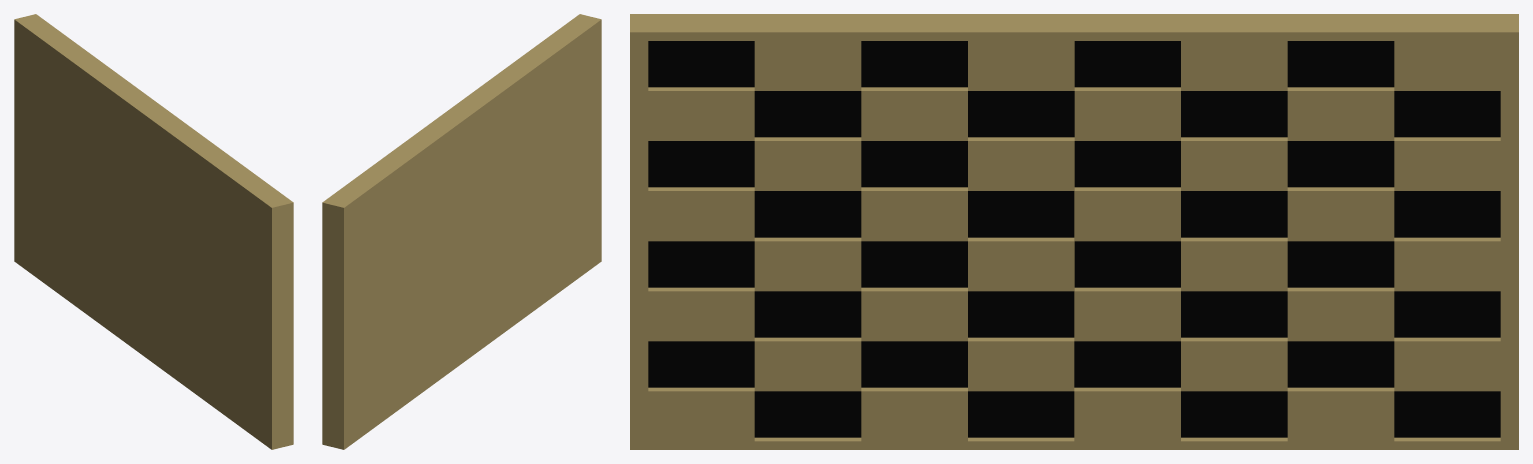
File: wall.fbx
3 renders of one model, left to right at view 1: azimuth 30°, elevation 25°; view 2: azimuth 150°, elevation 25°; view 3: azimuth 270°, elevation 25°, orthographic. The views are drawn at different scales.
Visible parts, largest first — view 1: Cube; view 2: Cube; view 3: Cube.
Part boxes in pixels (x1,y1,x2,y2): Cube: (14, 14, 293, 449); Cube: (322, 14, 601, 449); Cube: (630, 14, 1518, 449).
Size of the model in its own units: 29.9 by 316 by 609.
